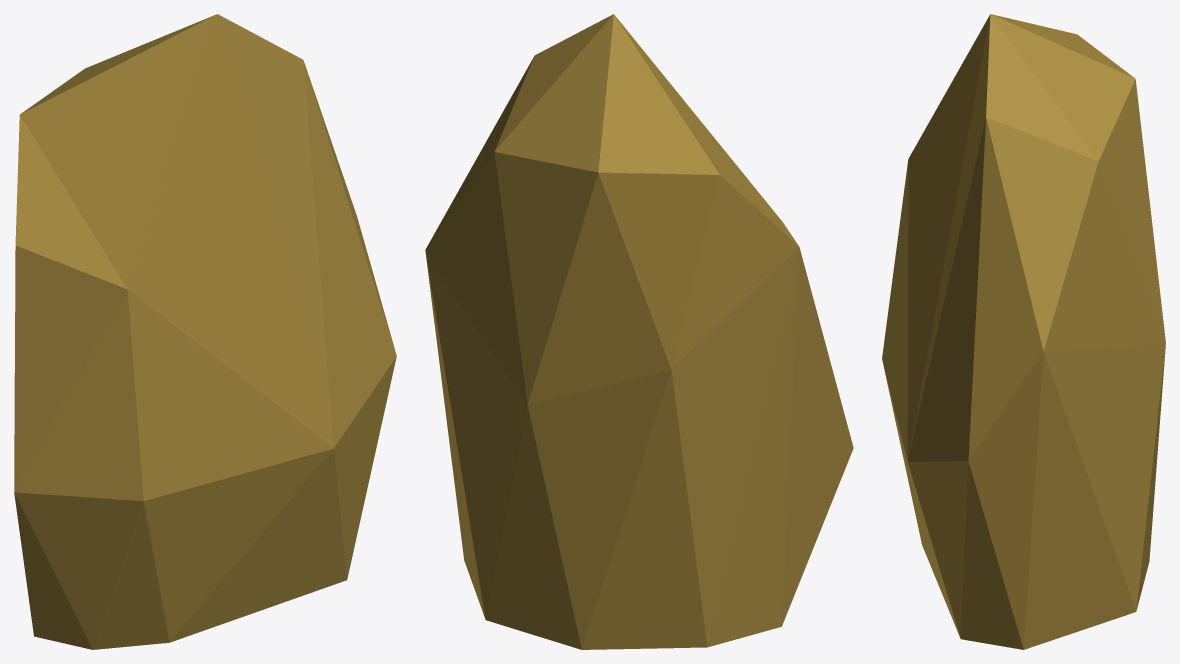
Rendered from co_Bush07_B.fbx.
The picture shows the model from 3 angles, left to right: view 1: azimuth 30°, elevation 25°; view 2: azimuth 150°, elevation 25°; view 3: azimuth 270°, elevation 25°; orthographic projection. The views are drawn at different scales.
Parts seen in each view (by area): view 1: Bush07_B; view 2: Bush07_B; view 3: Bush07_B.
Boxes of the visible parts, x1,y1,x2,y2 form: Bush07_B: [14, 14, 396, 649]; Bush07_B: [425, 14, 853, 649]; Bush07_B: [882, 14, 1165, 649].
Bounding box in the file's own units: 2.78 × 3.94 × 1.78.
